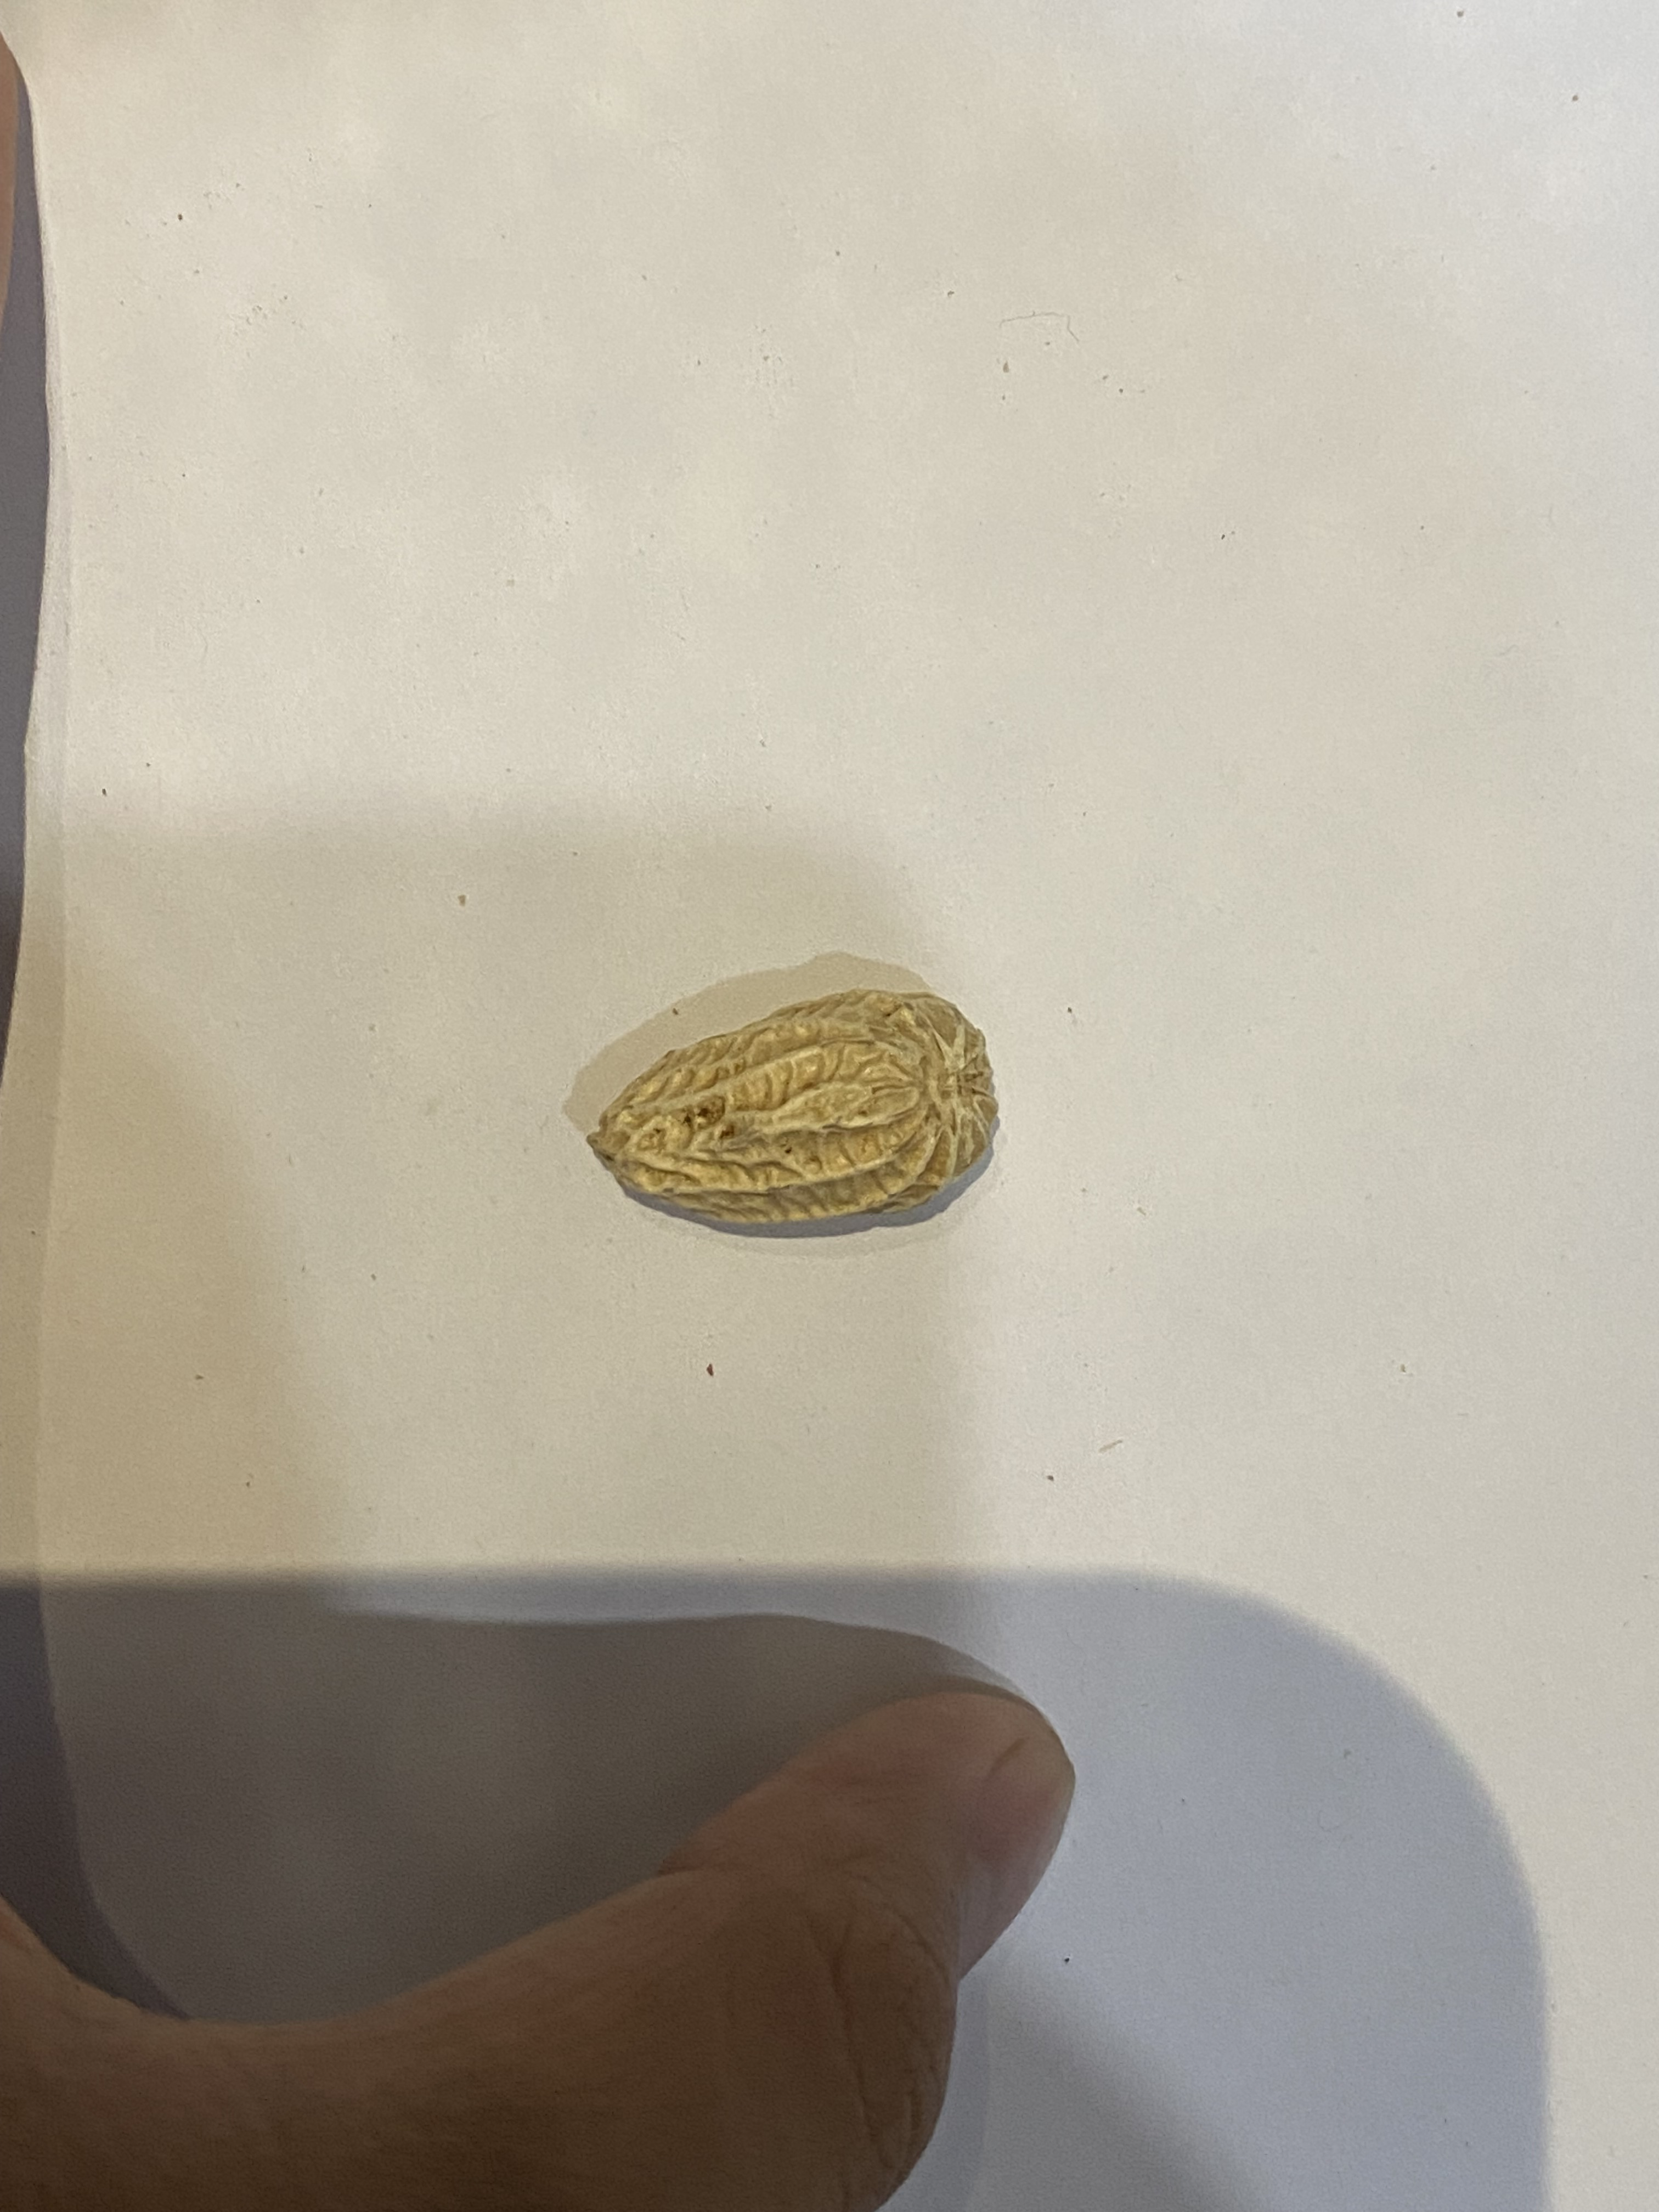kacang1: (587, 975, 999, 1244)
